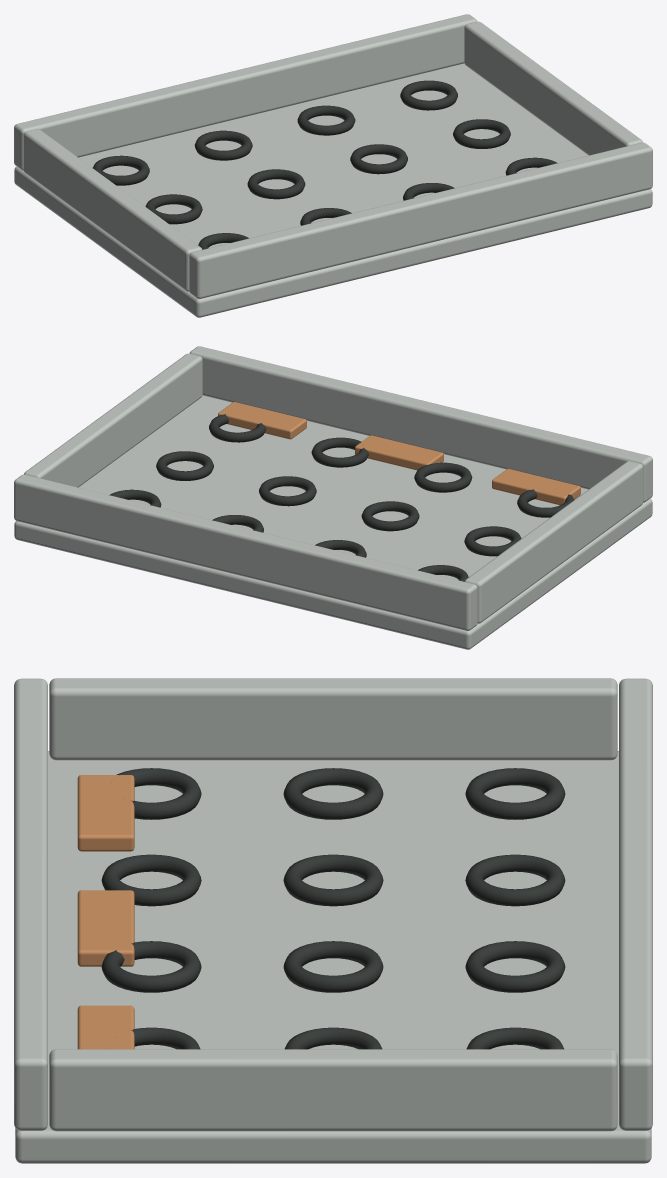
The model's file is spacecraft-thermal-test-chamber-blanket-fastening-tray-ca1ad220__32036.glb.
3 views of the same model, one above another, from view 1: azimuth 30°, elevation 25°; view 2: azimuth 150°, elevation 25°; view 3: azimuth 270°, elevation 25° (orthographic). The views are drawn at different scales.
Visible parts, largest first — view 1: blanket-fastening-tray; view 2: blanket-fastening-tray; view 3: blanket-fastening-tray.
Boxes of the visible parts, box(x1,y1,x2,y2) form: blanket-fastening-tray: box(14, 14, 652, 317); blanket-fastening-tray: box(14, 346, 652, 649); blanket-fastening-tray: box(14, 678, 652, 1163).
Bounding box in the file's own units: 0.401 × 0.051 × 0.281.
